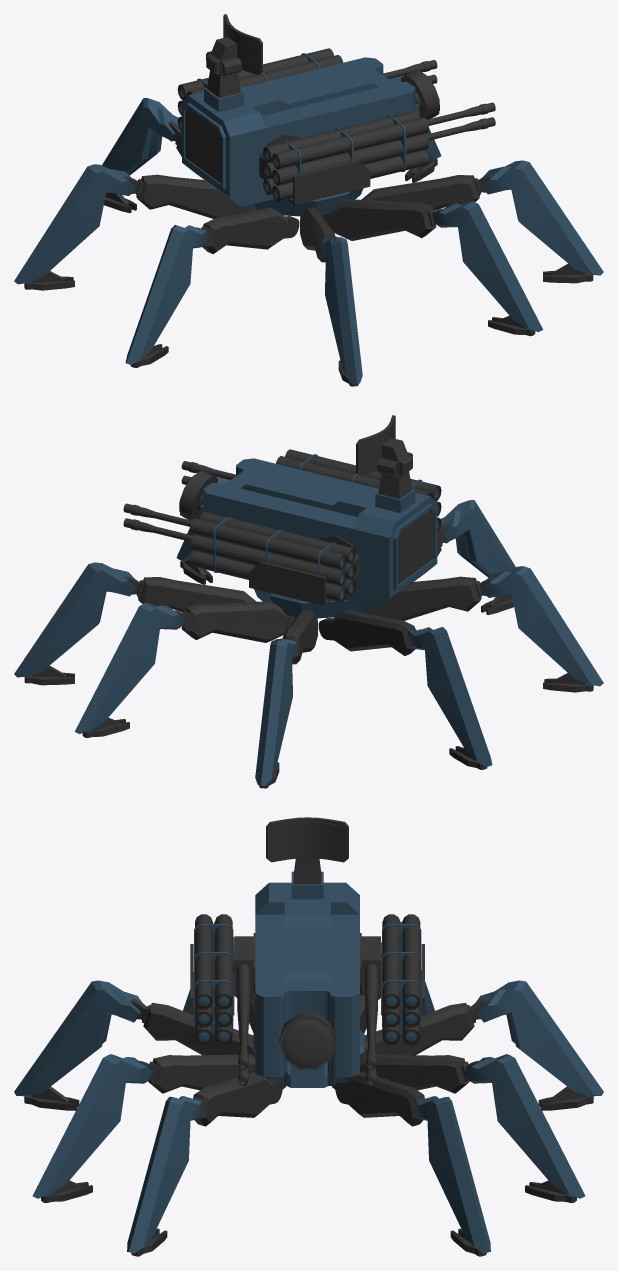
Rendered from Elite.fbx.
The picture shows the model from 3 angles, top to bottom: view 1: azimuth 30°, elevation 25°; view 2: azimuth 150°, elevation 25°; view 3: azimuth 270°, elevation 25°; orthographic projection. The views are drawn at different scales.
Visible parts, largest first — view 1: Cylinder_Cylinder.006, Cube.004_Cube.006, Cube.260, Cube.337, Cube.338, Cube.336, Cube.342, Cube.339, Cube.261, Cube.266, Cube.340, Cube.341 (+5 smaller); view 2: Cylinder_Cylinder.006, Cube.004_Cube.006, Cube.336, Cube.257, Cube.263, Cube.260, Cube.264, Cube.266, Cube.340, Cube.339, Cube.261, Cube.258 (+5 smaller); view 3: Cylinder_Cylinder.006, Cube.004_Cube.006, Cube.263, Cube.338, Cube.266, Cube.339, Cube.257, Cube.337, Cube.264, Cube.342, Cube.258, Cube.341 (+6 smaller).
Boxes of the visible parts, <box> form: Cylinder_Cylinder.006: <box>182,14,439,206</box>; Cube.004_Cube.006: <box>177,48,495,204</box>; Cube.260: <box>14,164,135,284</box>; Cube.337: <box>481,160,603,275</box>; Cube.338: <box>433,201,543,332</box>; Cube.336: <box>125,225,209,364</box>; Cube.342: <box>321,199,444,240</box>; Cube.339: <box>321,236,362,383</box>; Cube.261: <box>124,174,253,218</box>; Cube.266: <box>102,98,178,175</box>; Cube.340: <box>196,207,299,254</box>; Cube.341: <box>361,174,492,210</box>; Cylinder_Cylinder.006: <box>179,415,437,607</box>; Cube.004_Cube.006: <box>123,449,441,605</box>; Cube.336: <box>482,566,603,686</box>; Cube.257: <box>14,562,136,677</box>; Cube.263: <box>74,603,184,733</box>; Cube.260: <box>408,627,492,766</box>; Cube.264: <box>173,601,296,642</box>; Cube.266: <box>255,638,296,785</box>; Cube.340: <box>364,576,493,620</box>; Cube.339: <box>441,500,515,577</box>; Cube.261: <box>318,609,421,655</box>; Cube.258: <box>125,576,256,612</box>; Cylinder_Cylinder.006: <box>255,817,359,1087</box>; Cube.004_Cube.006: <box>190,914,424,1086</box>; Cube.263: <box>465,1054,585,1198</box>; Cube.338: <box>32,1054,152,1198</box>; Cube.266: <box>475,980,603,1096</box>; Cube.339: <box>14,980,142,1096</box>; Cube.257: <box>414,1096,490,1253</box>; Cube.337: <box>127,1096,203,1253</box>; Cube.264: <box>332,1054,481,1093</box>; Cube.342: <box>136,1054,285,1093</box>; Cube.258: <box>335,1071,424,1126</box>; Cube.341: <box>193,1072,282,1126</box>.
Size of the model in its own units: 311 by 172 by 320.
Materials: 2 (2 with a texture image).
